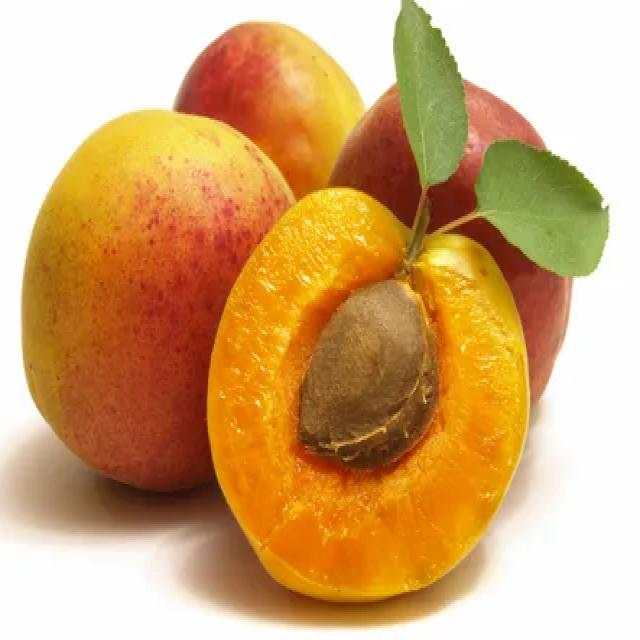Cekirdek: (299, 266, 438, 466)
Kayisi: (23, 110, 293, 486)
Yaprak: (477, 140, 608, 274)
